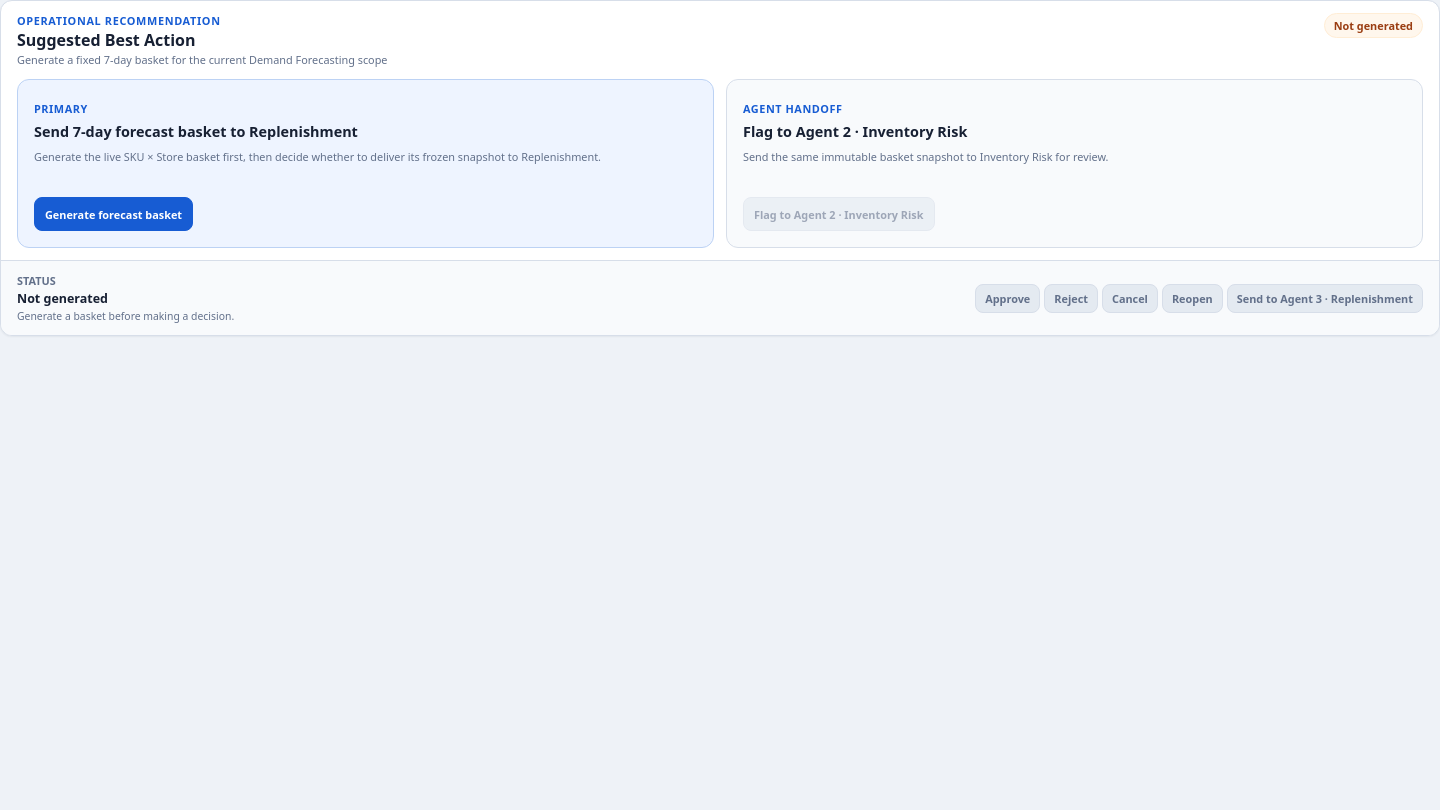
Test case: DemandSuggestedActions › does not fetch until Generate forecast basket is activated
Expected: the heading "Send 7-day forecast basket to Replenishment" is shown, [34,122,358,141]
Step 1. Click the button "Generate forecast basket" → (114, 214), box [34,197,193,231]
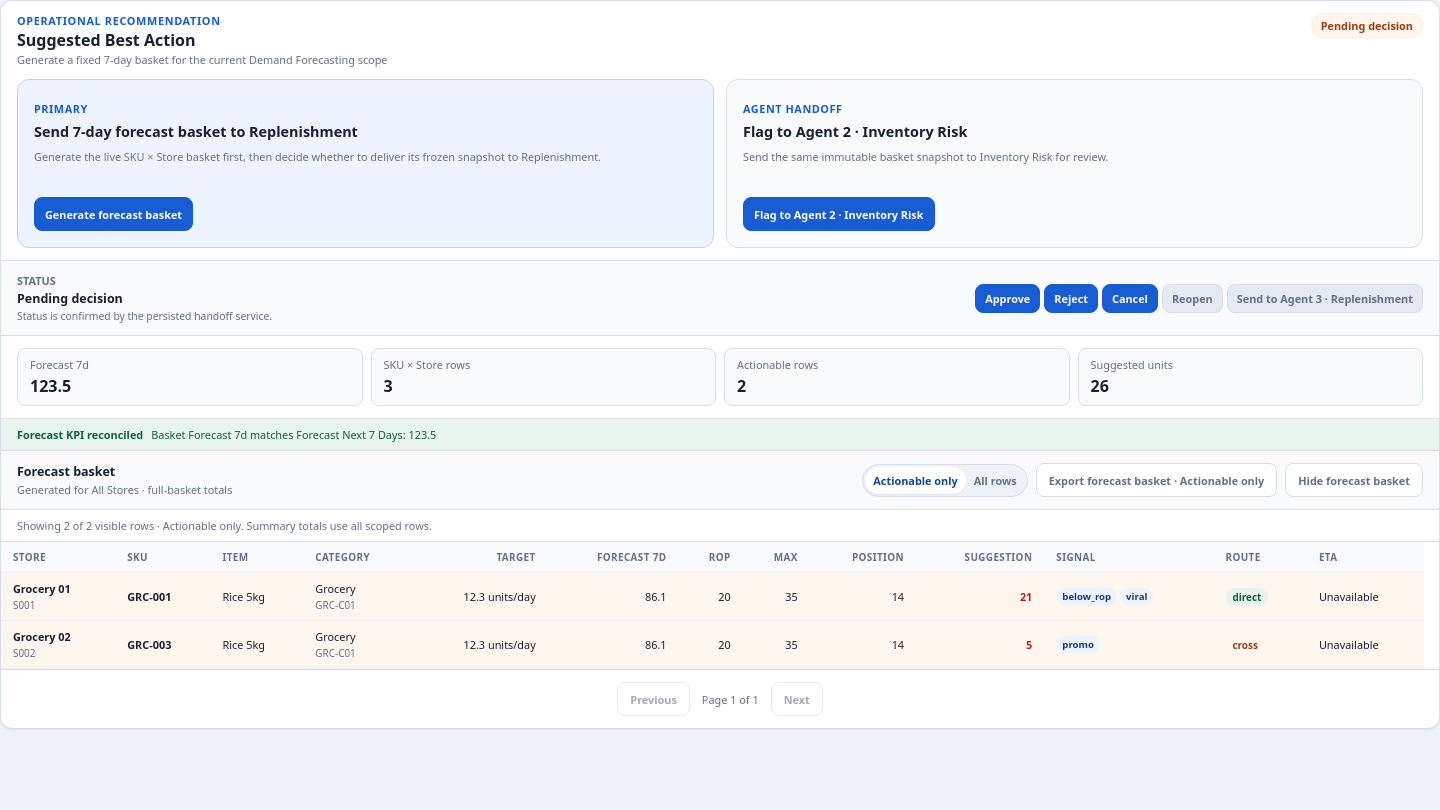
Now the text "Forecast KPI reconciled" is shown, box [17,427,143,442]
